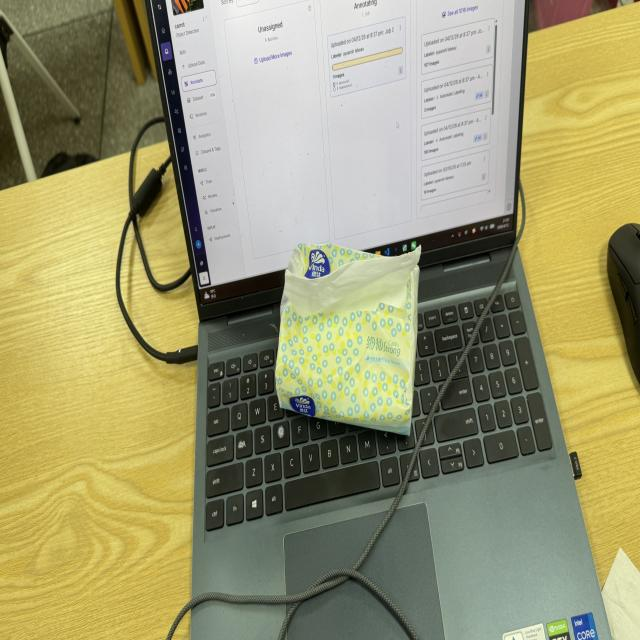tissue: (275, 245, 420, 434)
